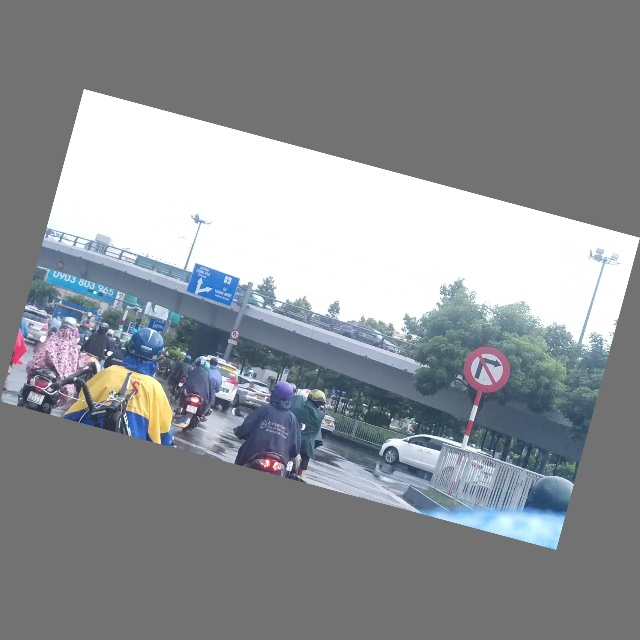P.123b: (458, 342, 515, 399)
P.124b1: (229, 329, 241, 341)
